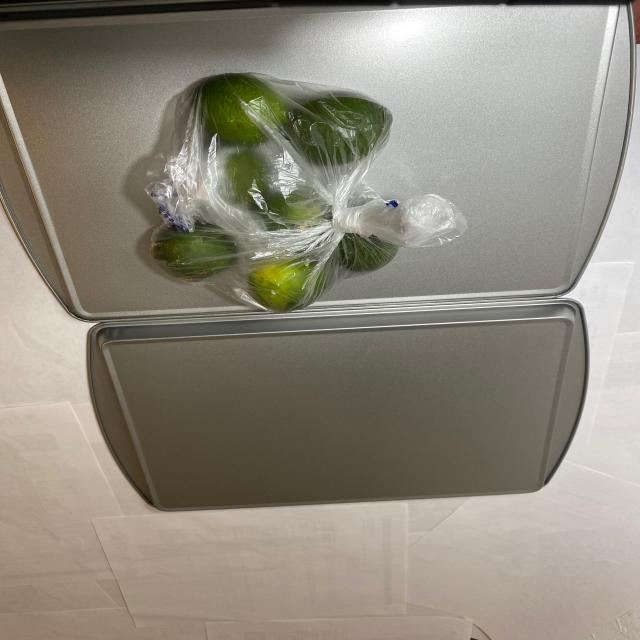lemon: (140, 80, 412, 310)
